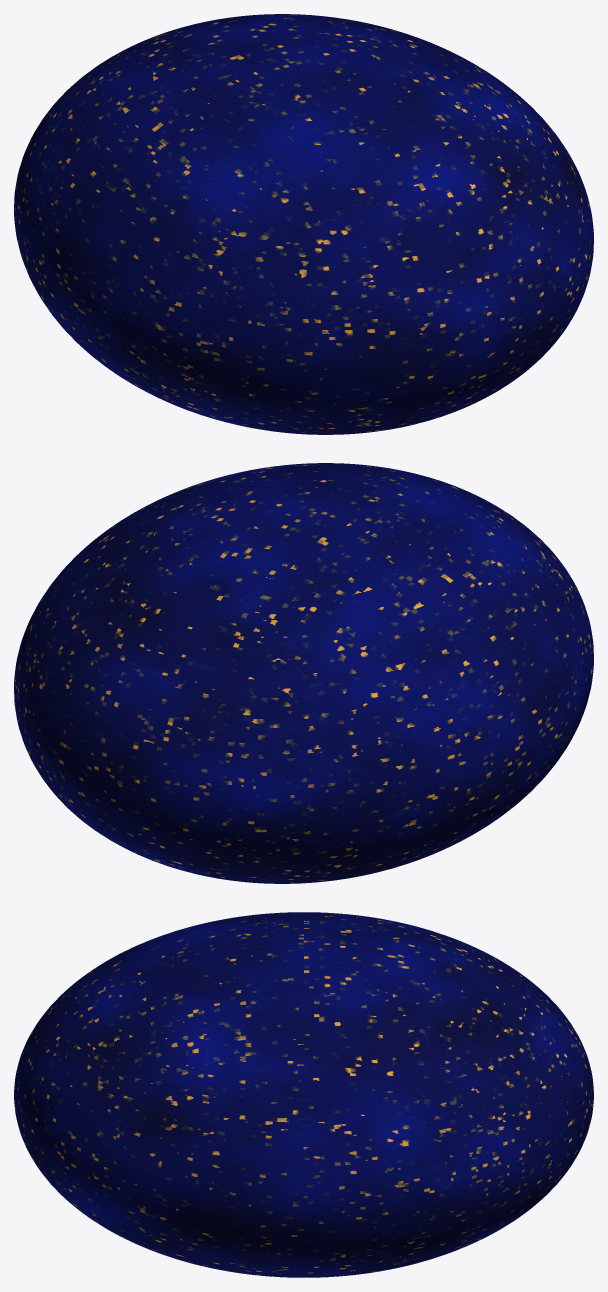
Rendered from lapis-lazuli.glb.
3 views of the same model, one above another, from view 1: azimuth 30°, elevation 25°; view 2: azimuth 150°, elevation 25°; view 3: azimuth 270°, elevation 25° (orthographic). The views are drawn at different scales.
Parts seen in each view (by area): view 1: lapis-lazuli.001; view 2: lapis-lazuli.001; view 3: lapis-lazuli.001.
Part boxes in pixels (x1,y1,x2,y2): lapis-lazuli.001: [14, 14, 593, 434]; lapis-lazuli.001: [14, 463, 593, 883]; lapis-lazuli.001: [14, 912, 593, 1277].
Bounding box in the file's own units: 2.17 × 1.41 × 2.5.
1 material, 1 textured.
